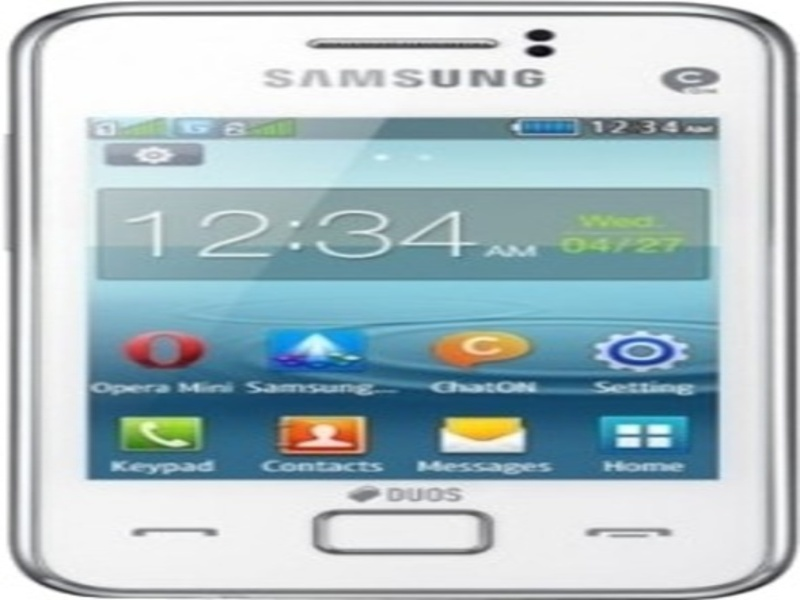Mobile Phone: (1, 1, 797, 597)
